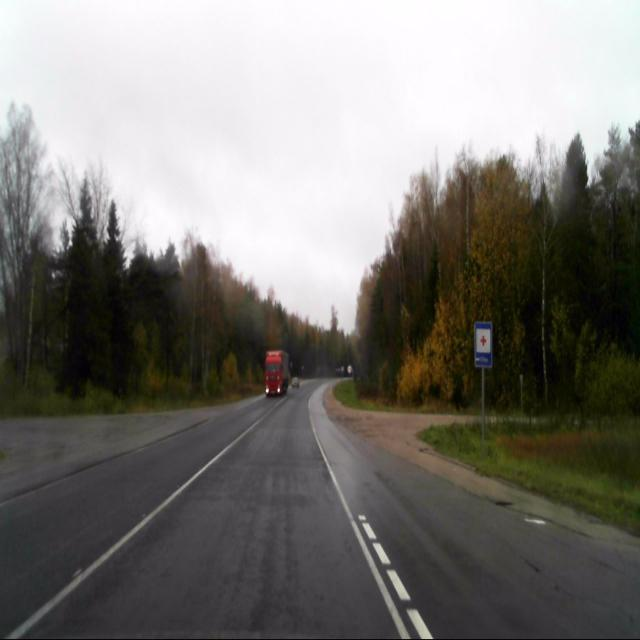road sign: (474, 322, 492, 368)
